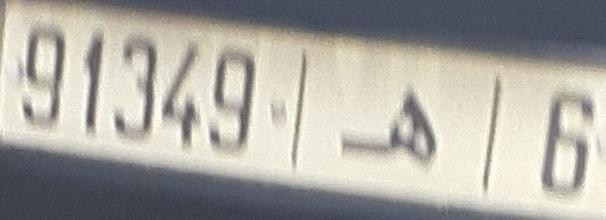1: (79, 27, 104, 141)
3: (111, 31, 157, 145)
4: (159, 37, 204, 155)
6: (539, 80, 601, 204)
9: (207, 44, 257, 163), (19, 23, 66, 130)
h: (334, 77, 454, 180)
